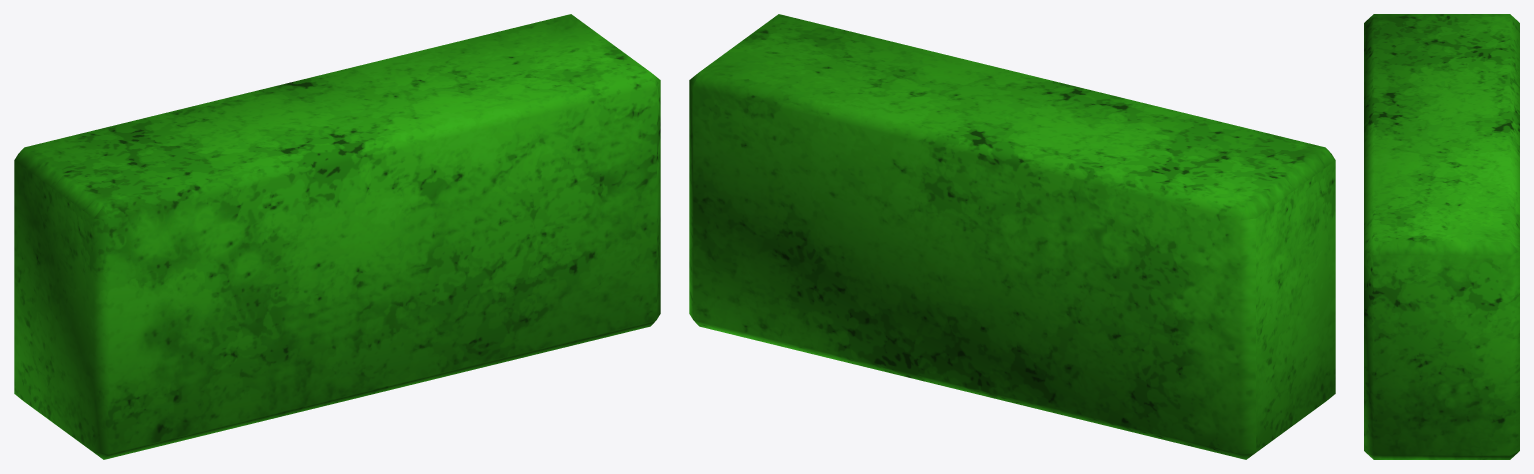
File: Bush_1.fbx
3 renders of one model, left to right at view 1: azimuth 30°, elevation 25°; view 2: azimuth 150°, elevation 25°; view 3: azimuth 270°, elevation 25°, orthographic. The views are drawn at different scales.
Parts seen in each view (by area): view 1: Bush_1; view 2: Bush_1; view 3: Bush_1.
Boxes of the visible parts, bbox=[...] form: Bush_1: bbox=[14, 14, 660, 459]; Bush_1: bbox=[689, 14, 1335, 459]; Bush_1: bbox=[1364, 14, 1519, 459].
Size of the model in its own units: 200 by 85.73 by 55.63.
Materials: 1 (1 with a texture image).
